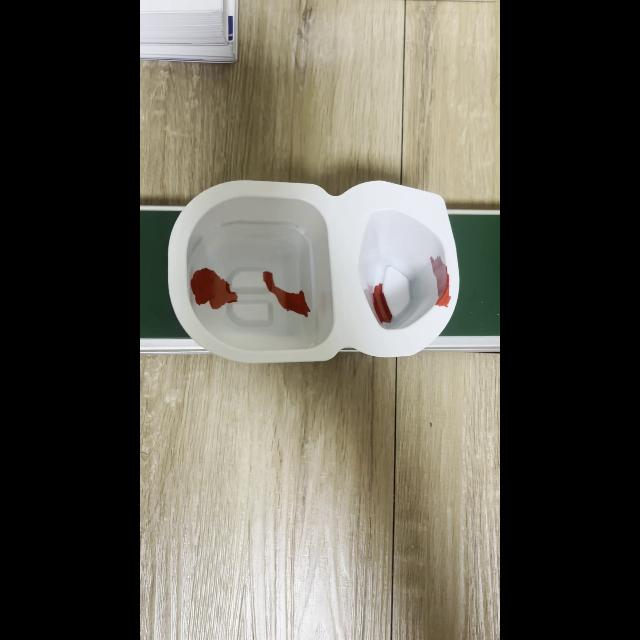dirty: (168, 207, 458, 347)
